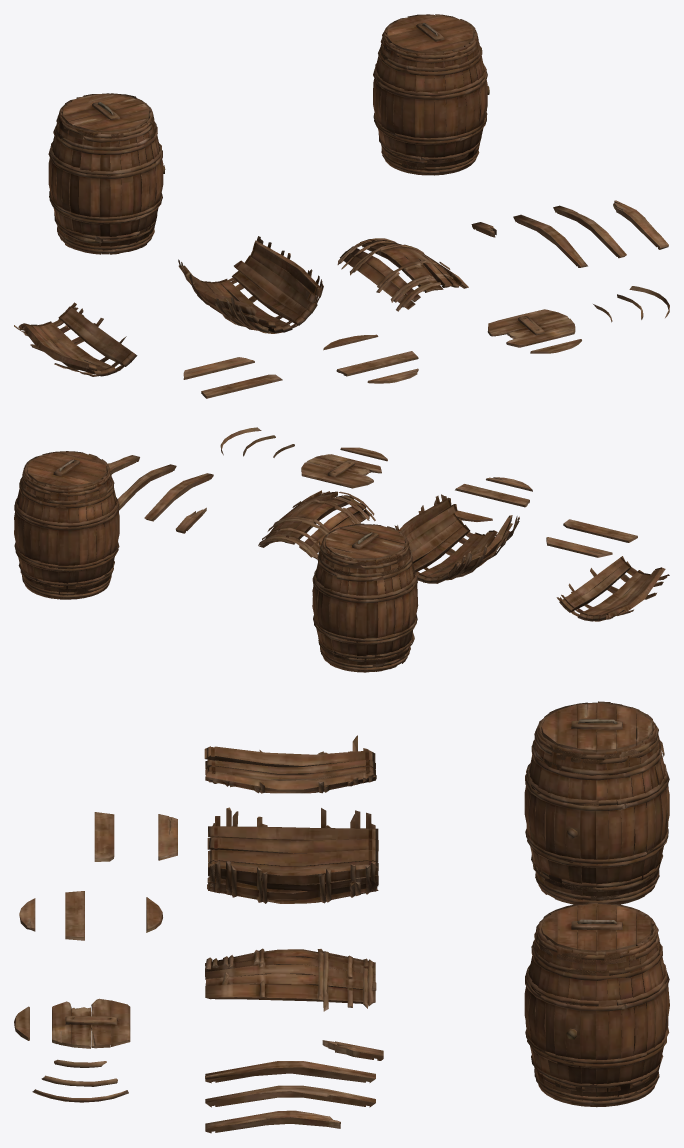
Rendered from wooden_barrels_01.glb.
3 views of the same model, one above another, from view 1: azimuth 30°, elevation 25°; view 2: azimuth 150°, elevation 25°; view 3: azimuth 270°, elevation 25° (orthographic). The views are drawn at different scales.
Visible parts, largest first — view 1: wooden_barrels_01_barrel02, wooden_barrels_01_barrel01, wooden_barrels_01_piece01, wooden_barrels_01_piece03, wooden_barrels_01_piece02, wooden_barrels_01_piece08, wooden_barrels_01_piece04, wooden_barrels_01_piece05, wooden_barrels_01_piece06, wooden_barrels_01_piece11, wooden_barrels_01_piece14, wooden_barrels_01_piece13; view 2: wooden_barrels_01_barrel02, wooden_barrels_01_barrel01, wooden_barrels_01_piece01, wooden_barrels_01_piece03, wooden_barrels_01_piece02, wooden_barrels_01_piece08, wooden_barrels_01_piece04, wooden_barrels_01_piece14, wooden_barrels_01_piece11, wooden_barrels_01_piece05, wooden_barrels_01_piece13; view 3: wooden_barrels_01_barrel01, wooden_barrels_01_barrel02, wooden_barrels_01_piece01, wooden_barrels_01_piece03, wooden_barrels_01_piece02, wooden_barrels_01_piece08, wooden_barrels_01_piece04, wooden_barrels_01_piece05, wooden_barrels_01_piece06, wooden_barrels_01_piece14, wooden_barrels_01_piece11, wooden_barrels_01_piece13 (+1 smaller).
Boxes of the visible parts, x1,y1,x2,y2 form: wooden_barrels_01_barrel02: (48,93,165,254); wooden_barrels_01_barrel01: (373,14,489,175); wooden_barrels_01_piece01: (178,236,323,333); wooden_barrels_01_piece03: (337,238,468,311); wooden_barrels_01_piece02: (14,302,137,376); wooden_barrels_01_piece08: (487,309,575,347); wooden_barrels_01_piece04: (513,214,587,267); wooden_barrels_01_piece05: (553,205,626,258); wooden_barrels_01_piece06: (613,200,668,249); wooden_barrels_01_piece11: (336,351,418,376); wooden_barrels_01_piece14: (201,374,282,398); wooden_barrels_01_piece13: (183,357,254,379); wooden_barrels_01_barrel02: (312,523,418,672); wooden_barrels_01_barrel01: (14,451,119,599); wooden_barrels_01_piece01: (394,494,519,583); wooden_barrels_01_piece03: (258,490,375,559); wooden_barrels_01_piece02: (556,556,669,621); wooden_barrels_01_piece08: (301,454,381,488); wooden_barrels_01_piece04: (144,473,213,521); wooden_barrels_01_piece14: (563,519,637,542); wooden_barrels_01_piece11: (455,484,529,507); wooden_barrels_01_piece05: (117,464,176,510); wooden_barrels_01_piece13: (546,537,612,557); wooden_barrels_01_barrel01: (524,902,669,1107); wooden_barrels_01_barrel02: (524,701,669,904); wooden_barrels_01_piece01: (207,807,378,903); wooden_barrels_01_piece03: (205,948,376,1011); wooden_barrels_01_piece02: (204,735,376,793); wooden_barrels_01_piece08: (52,998,130,1048); wooden_barrels_01_piece04: (205,1061,375,1083); wooden_barrels_01_piece05: (205,1085,375,1107); wooden_barrels_01_piece06: (205,1110,340,1133); wooden_barrels_01_piece14: (94,812,114,861); wooden_barrels_01_piece11: (65,891,84,940); wooden_barrels_01_piece13: (158,814,177,860).
Size of the model in its own units: 4.44 by 0.953 by 3.34.
Materials: 3 (3 with a texture image).
